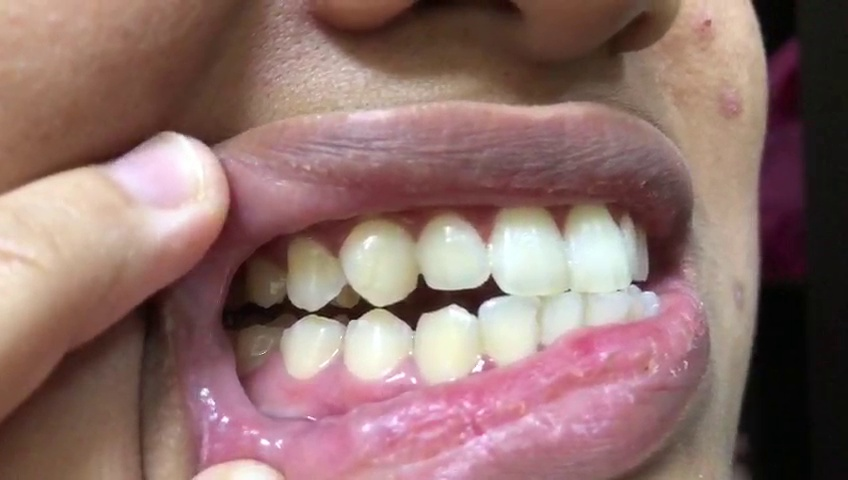1st Molar: (236, 321, 278, 373)
1st Premolar: (343, 307, 411, 385), (286, 234, 346, 311)
2nd Premolar: (280, 314, 341, 380), (245, 260, 284, 308)
Canine: (340, 217, 419, 307), (415, 303, 482, 385)
Central Incisor: (488, 206, 570, 295), (567, 202, 632, 294)
Lateral Incisor: (418, 213, 488, 289), (479, 293, 541, 369)
